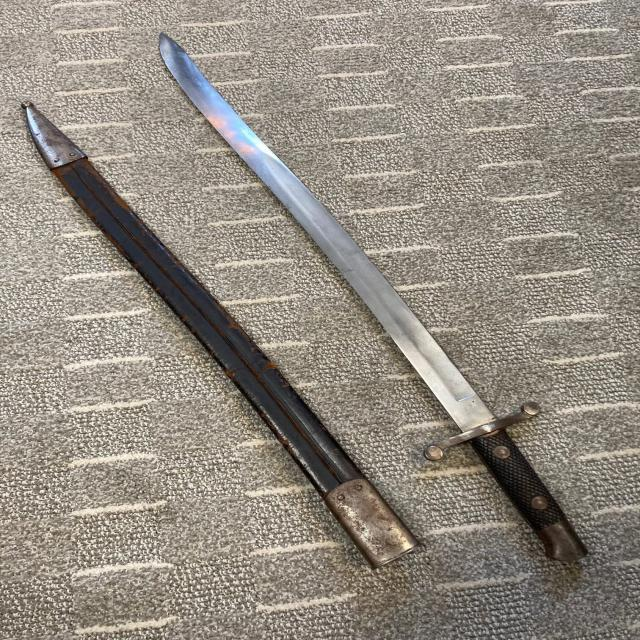short sword: (147, 17, 594, 578)
